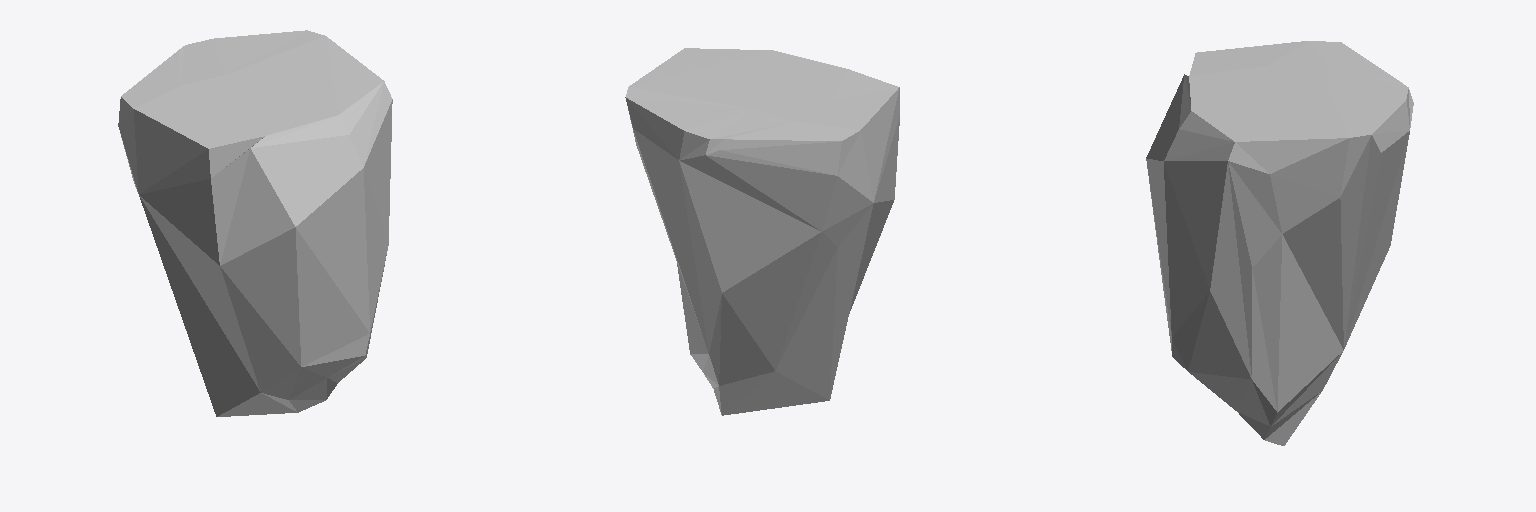
Rendered from tallrock1.obj.
3 views of the same model, side by side, from view 1: azimuth 30°, elevation 25°; view 2: azimuth 150°, elevation 25°; view 3: azimuth 270°, elevation 25° (orthographic).
Visible parts, largest first — view 1: tallrock1; view 2: tallrock1; view 3: tallrock1.
Part boxes in pixels (x1,y1,x2,y2): tallrock1: (118,30,392,416); tallrock1: (625,48,899,415); tallrock1: (1146,41,1413,445).
Size of the model in its own units: 1.97 by 2.86 by 2.05.